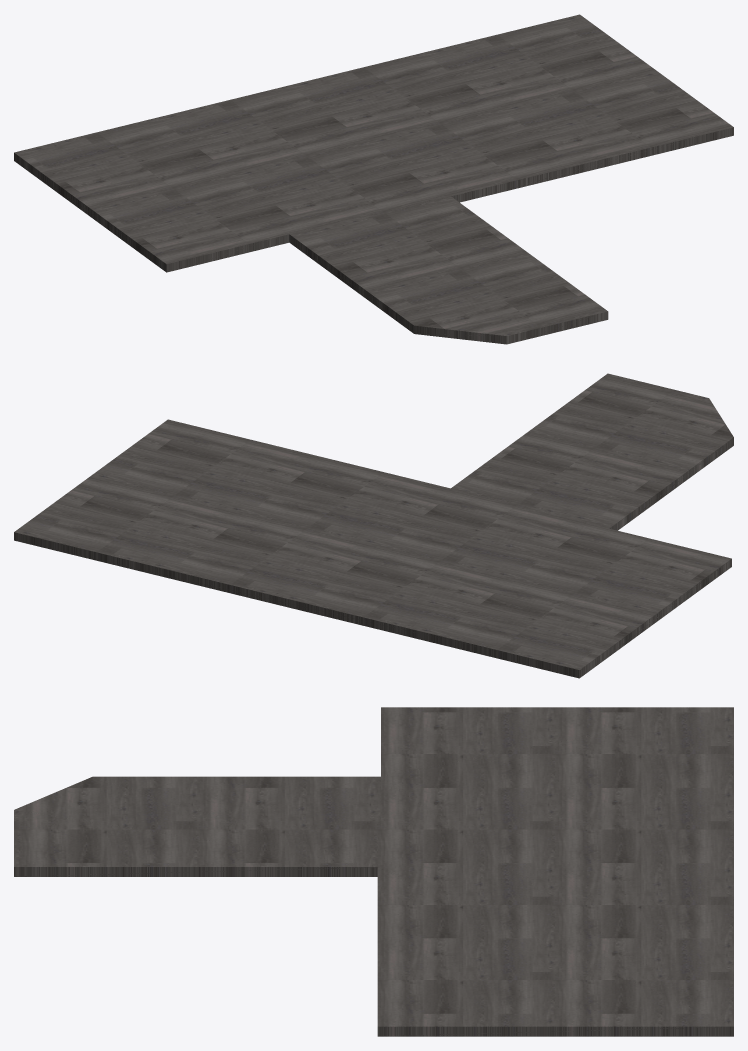
The model's file is Floor_CastinePlusWhitefillOak.glb.
3 views of the same model, one above another, from view 1: azimuth 30°, elevation 25°; view 2: azimuth 150°, elevation 25°; view 3: azimuth 270°, elevation 25° (orthographic). The views are drawn at different scales.
Visible parts, largest first — view 1: Floor_Castine Cove Plus 7 Whitefill Oak; view 2: Floor_Castine Cove Plus 7 Whitefill Oak; view 3: Floor_Castine Cove Plus 7 Whitefill Oak.
Boxes of the visible parts, bbox=[...] form: Floor_Castine Cove Plus 7 Whitefill Oak: bbox=[14, 14, 733, 344]; Floor_Castine Cove Plus 7 Whitefill Oak: bbox=[14, 373, 733, 678]; Floor_Castine Cove Plus 7 Whitefill Oak: bbox=[14, 707, 733, 1036].
Size of the model in its own units: 21.2 by 0.3 by 20.2.
1 material, 1 textured.
